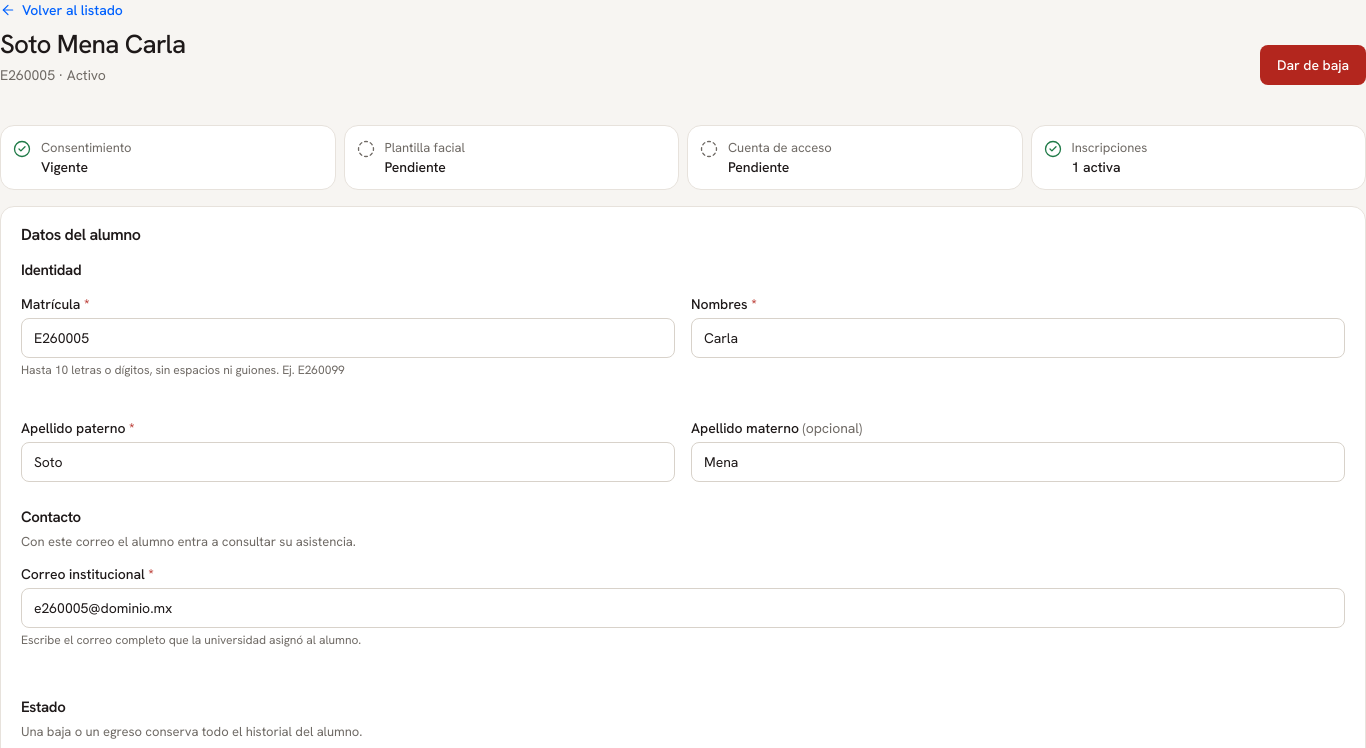
Test case: DetalleAlumno: baja con confirmación única › si se guardaron los datos pero falla el estatus, lo dice y no habla de «no se pudo guardar»
Type "ita" into the field labelled "Nombres *" at (1018, 338), box [691, 318, 1345, 358]
(page scrolled)
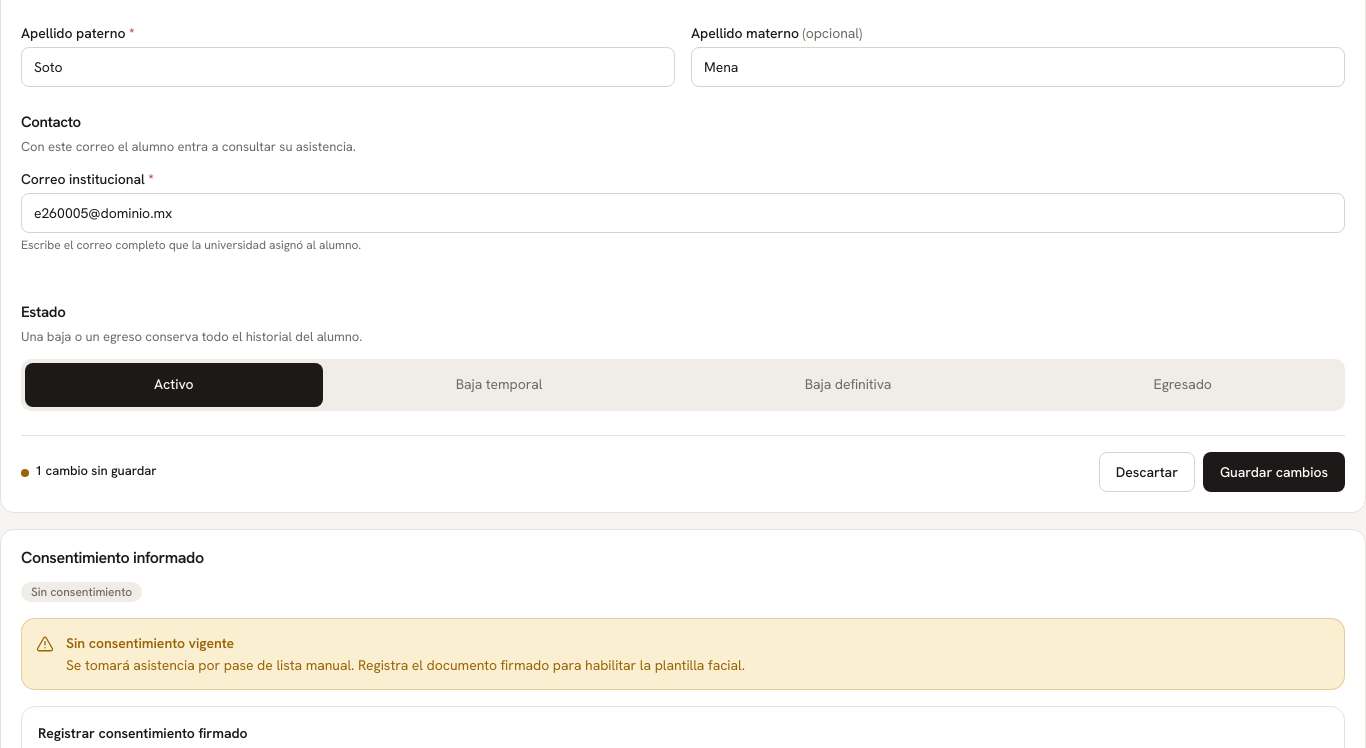
Click the radio button labelled "Baja temporal" at (499, 384), box [327, 362, 672, 406]
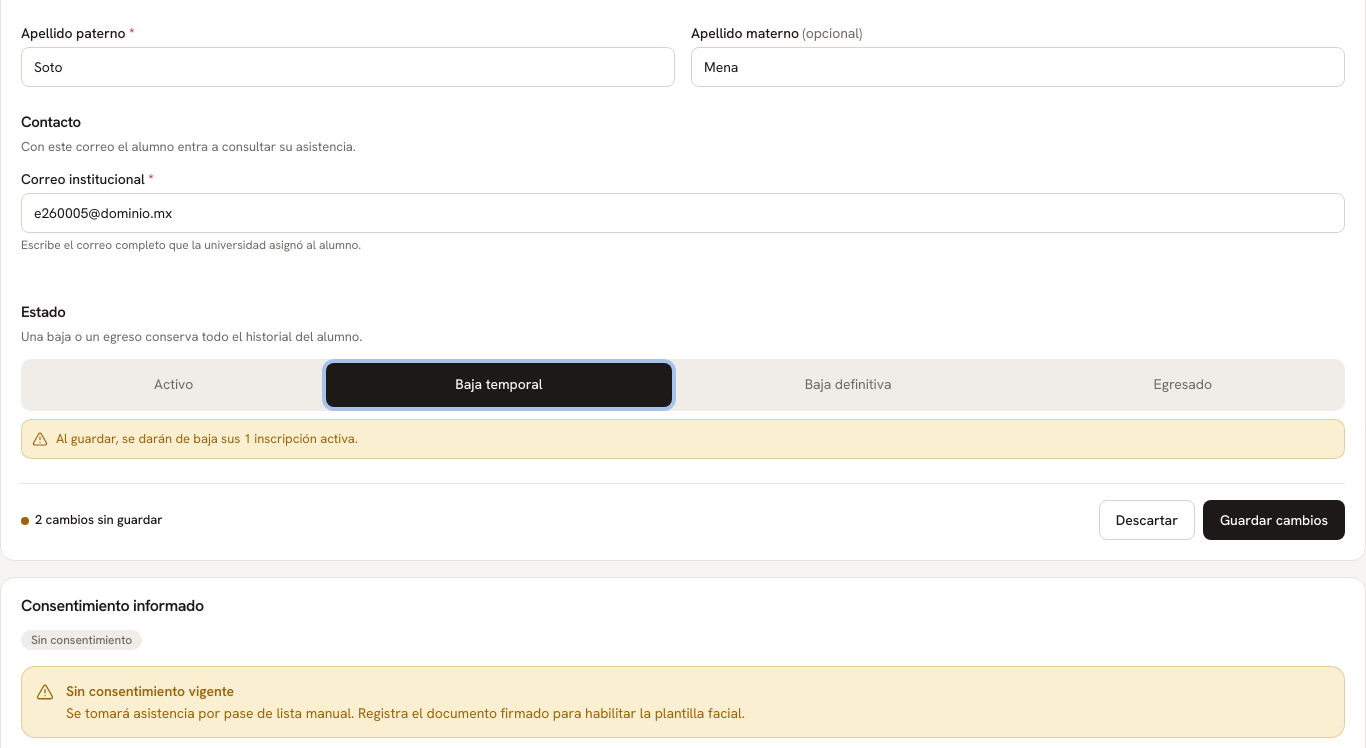
Click the button "Guardar cambios" at (1274, 520), box [1203, 500, 1345, 540]
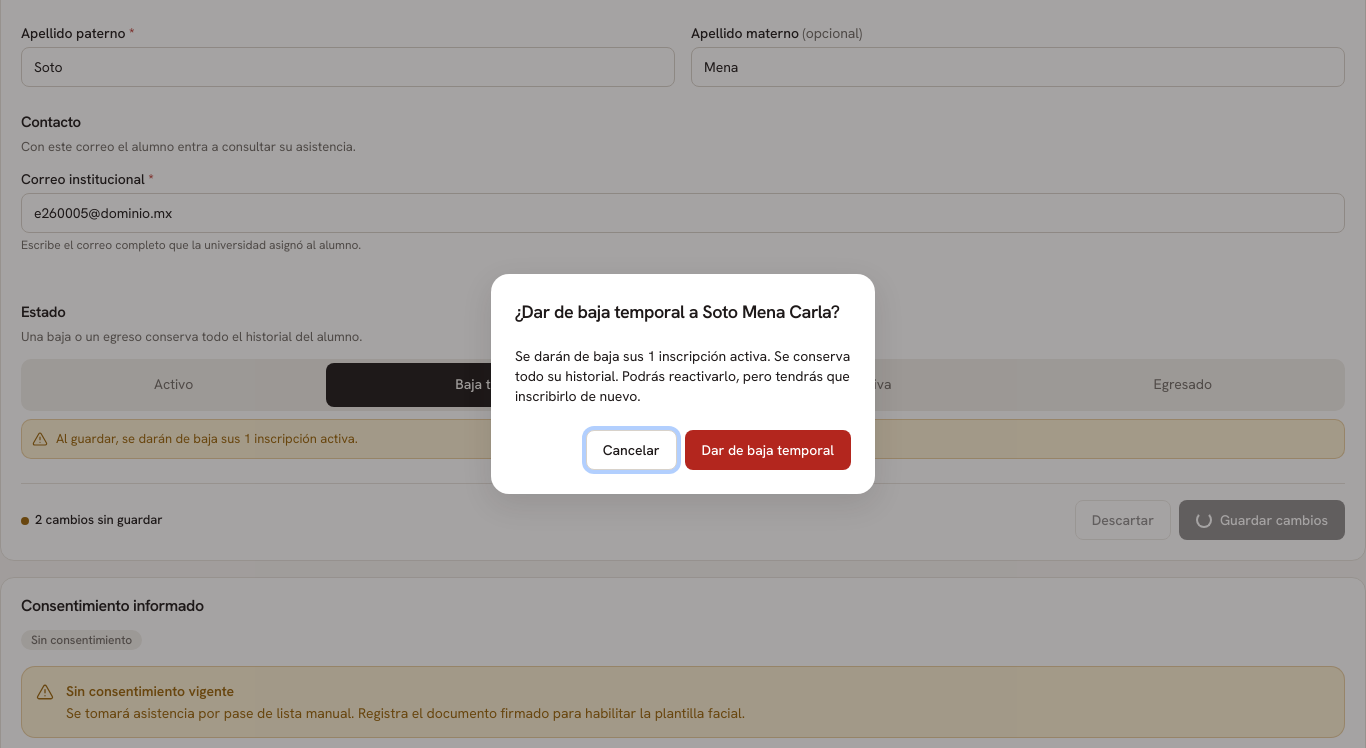
Click the button "Dar de baja temporal" at (768, 450), box [684, 430, 851, 470]
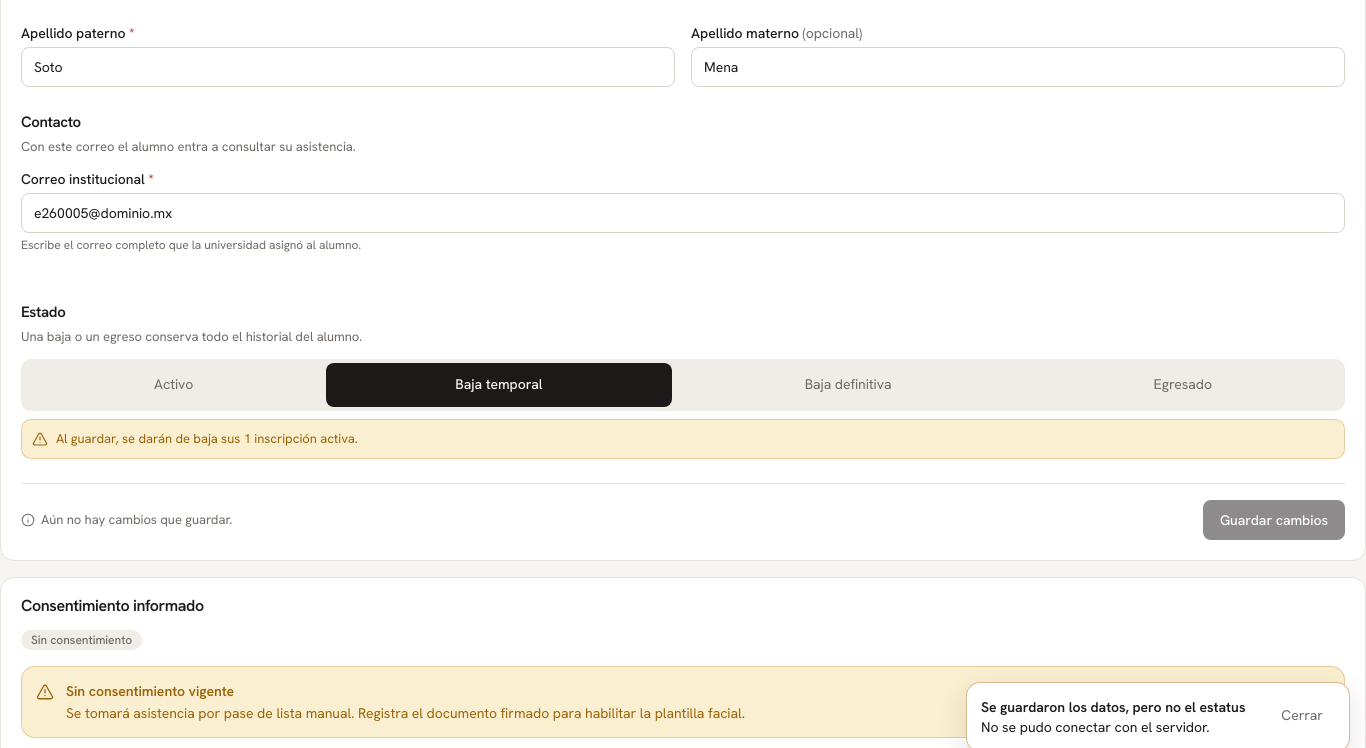
Expected: the text "Se guardaron los datos, pero no el estatus" is shown, [981, 697, 1257, 717]
Expected: the text "No se pudo conectar con el servidor." is shown, [981, 718, 1210, 736]
